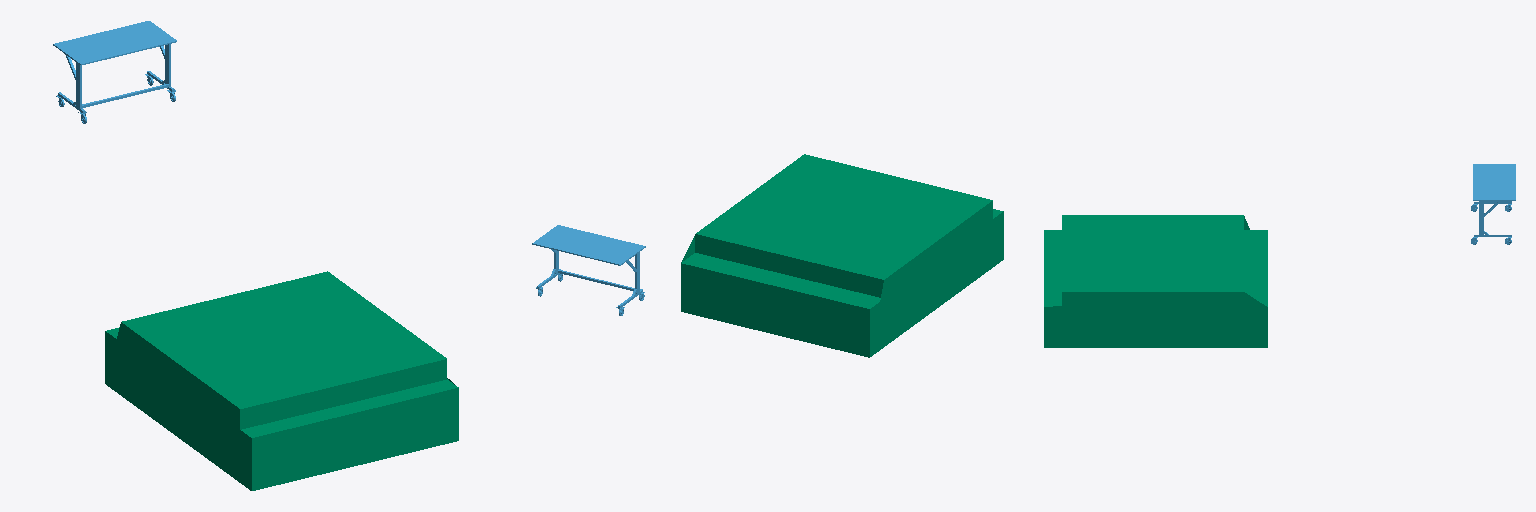
URDF robot description (castarena):
<?xml version="1.0"?>
<robot name="castarena">

  <link name="world">
    <visual>
      <origin rpy="0.0 0 -3.1415" xyz="4.075 5.135 0"/>
      <geometry>
        <mesh filename="package://bintel_ros/meshes/cast/cast_simple_2.dae"/>
      </geometry>
    </visual>
  </link>

  <link name="auxTable">
    <visual>
      <origin rpy="0.0 0 0" xyz="0 0 0.930"/>
      <geometry>
        <mesh filename="package://bintel_ros/meshes/auxTable.stl"/>
      </geometry>
    </visual>
  </link>  
  
  
  <joint name="j1" type="fixed">
	<origin rpy="0 0 0" xyz="0.0 0.0 2"/>
    <parent link="world"/>
    <child link="auxTable"/>    
  </joint>


  <link name="windtunnel">
    <visual>
      <origin rpy="0.0 0 0" xyz="0 0 0"/>
      <geometry>
        <mesh filename="package://bintel_ros/meshes/wind_tunnel_down.dae"/>
      </geometry>
    </visual>
  </link>  
  
  <joint name="j2" type="fixed">
	  <origin rpy="0 0 1.5707" xyz="0 -7.7 0"/>
    <parent link="world"/>
    <child link="windtunnel"/>    
  </joint>  

</robot>

--- Facts derived from the render (not from the file) ---
Views: 3 orthographic renders of the robot side by side, from view 1: azimuth 30°, elevation 25°; view 2: azimuth 150°, elevation 25°; view 3: azimuth 270°, elevation 25°.
Model castarena with 3 links and 2 joints (2 fixed), rooted at world, posed all joints at 0.
Visible links, largest first — view 1: windtunnel, auxTable; view 2: windtunnel, auxTable; view 3: windtunnel, auxTable.
Boxes of the visible links, x1=… form: windtunnel: x1=105, y1=271, x2=458, y2=490; auxTable: x1=53, y1=21, x2=176, y2=123; windtunnel: x1=681, y1=154, x2=1003, y2=357; auxTable: x1=532, y1=225, x2=645, y2=315; windtunnel: x1=1044, y1=215, x2=1267, y2=347; auxTable: x1=1471, y1=164, x2=1515, y2=244.
Bounding box of the posed robot: 3.27 × 8.46 × 2.93 m (x, y, z).
Meshes: 3 distinct files referenced, 2 mesh visuals loaded (1 binary STL, 1 Collada DAE); not drawn: 1 (file found but could not be loaded).
